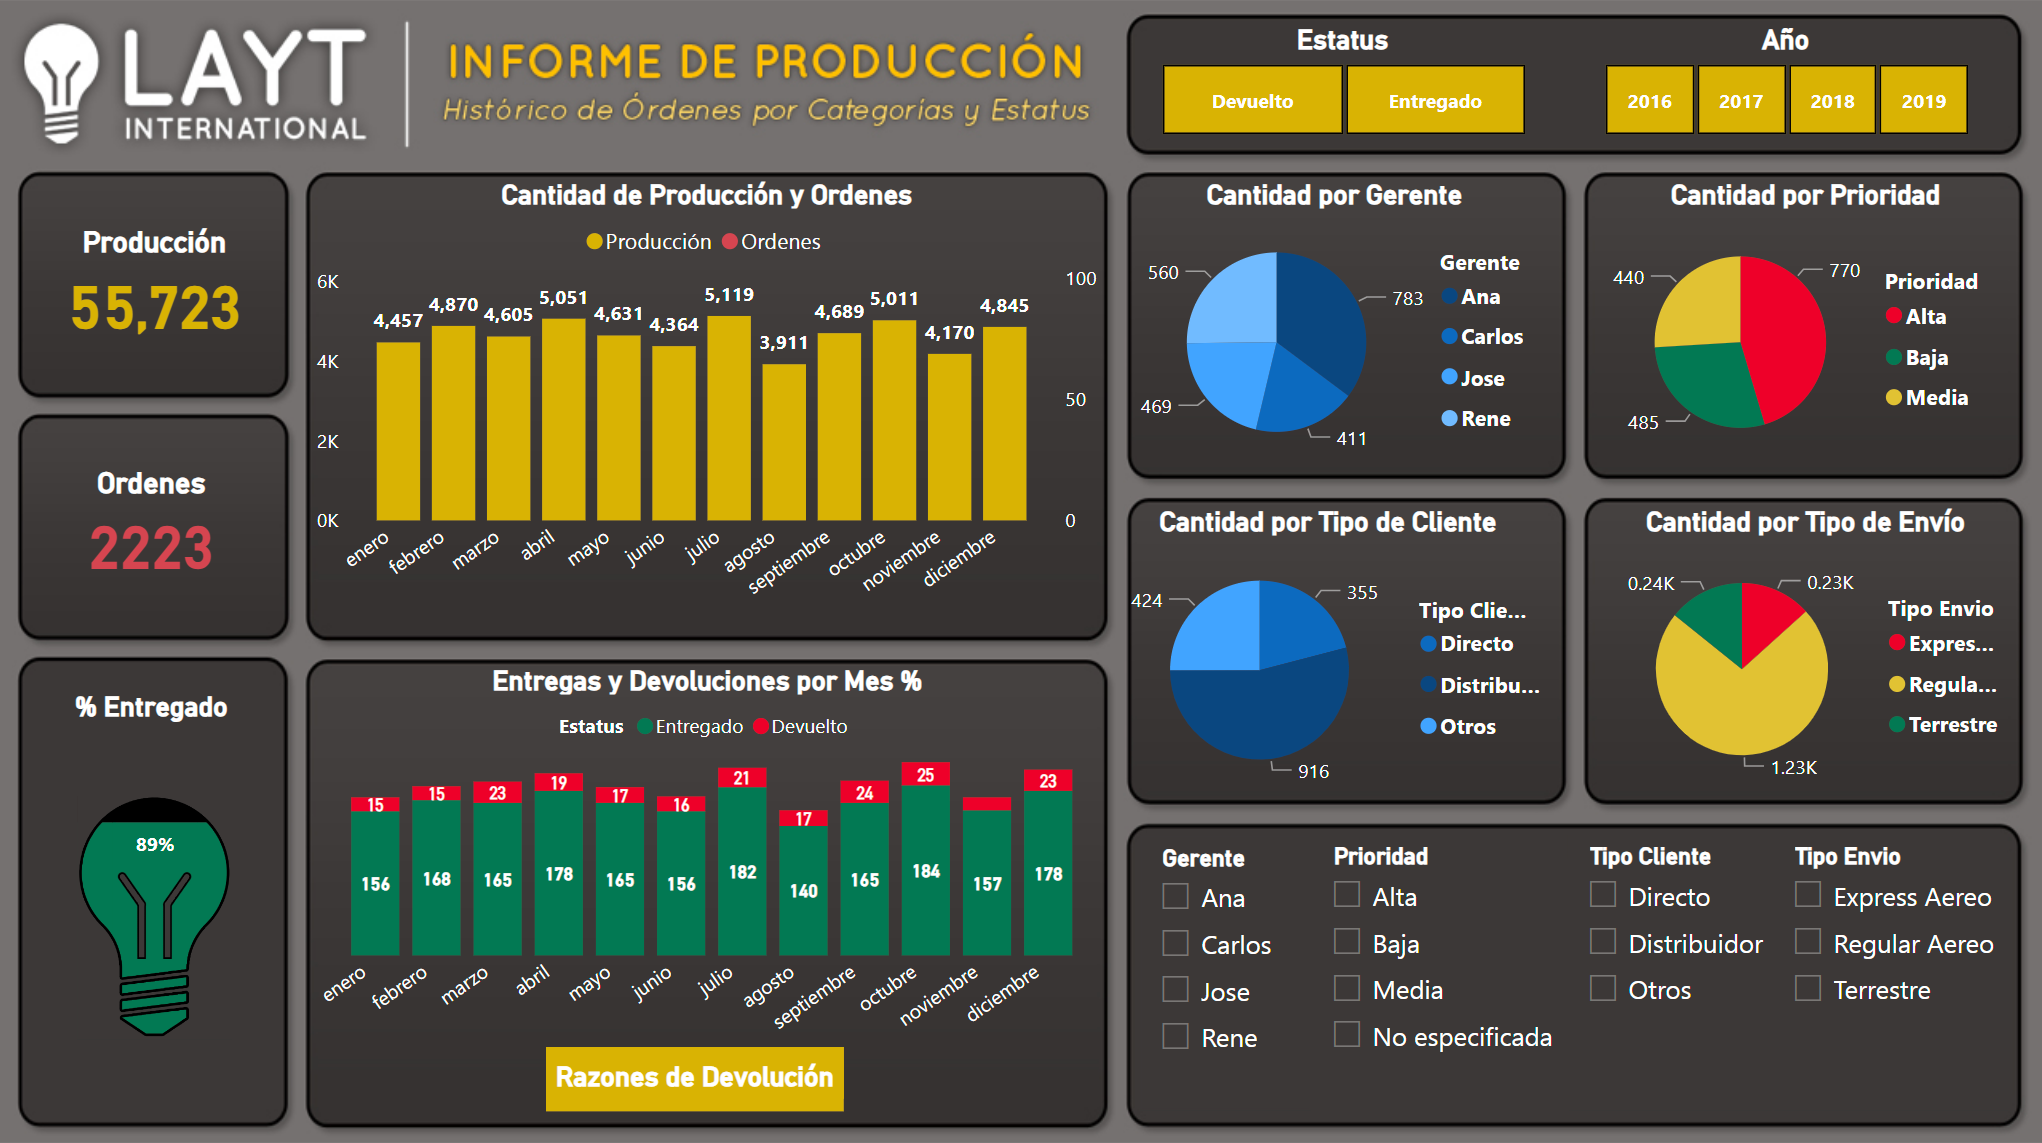

The page's visual inventory and layout, read from the dashboard file:
{"tool":"powerbi","page":{"name":"Pctg - Entregas","canvas":[1280,720],"ordinal":2},"visuals":[{"type":"image","title":"ImagenFondo","box":[0,0,1279.8,720],"z":0},{"type":"card","title":"Producción","fields":{"Values":["TablaTransacciones.Cantidad"]},"box":[22.9,144.7,157.1,75.5],"z":1000},{"type":"card","title":"Ordenes","fields":{"Values":["TablaTransacciones.Cantidad"]},"box":[22.9,294.4,153.4,74.2],"z":2000},{"type":"lineClusteredColumnComboChart","title":"Cantidad de Producción y Ordenes","fields":{"Category":["TablaTransacciones.Fecha.Variación.Jerarquía de fechas.Mes"],"Y2":["TablaTransacciones.Cantidad"],"Y":["TablaTransacciones.Cantidad"]},"box":[196.7,115.7,495.5,282.1],"z":3000},{"type":"slicer","title":"Año","fields":{"Values":["TablaTransacciones.Fecha.Variación.Jerarquía de fechas.Año"]},"box":[977.3,19.2,275.3,76.1],"z":4000},{"type":"columnChart","title":"Entregas y Devoluciones por Mes %","fields":{"Category":["TablaTransacciones.Fecha.Variación.Jerarquía de fechas.Mes"],"Y":["TablaEstatus.Estatus"],"Series":["EstatusOrden.Estatus"]},"box":[197.3,417.5,494.8,248],"z":5000},{"type":"hundredPercentStackedColumnChart","title":"Segmento1","fields":{"Y":["TablaTransacciones.Cantidad"],"Series":["EstatusOrden.Orden"]},"box":[16.7,485.6,99.6,170.1],"z":6000},{"type":"hundredPercentStackedColumnChart","title":"Segmento2","fields":{"Y":["TablaTransacciones.Cantidad"],"Series":["EstatusOrden.Orden"]},"box":[0,485.6,207.8,170.1],"z":7000},{"type":"hundredPercentStackedColumnChart","title":"Segmento3","fields":{"Y":["TablaTransacciones.Cantidad"],"Series":["EstatusOrden.Orden"]},"box":[96.5,485.6,84.7,170.1],"z":8000},{"type":"slicer","title":"Estatus","fields":{"Values":["TablaEstatus.Estatus"]},"box":[702.1,19.2,275.3,76.1],"z":9000},{"type":"image","title":"Bombillo","box":[48.2,438.6,105.8,272.8],"z":10000},{"type":"textbox","title":"% Entregado","box":[17.9,428.7,163.3,43.3],"z":11000},{"type":"pieChart","title":"Cantidad por Gerente","fields":{"Y":["TablaTransacciones.Gerente"],"Series":["TablaTransacciones.Gerente"]},"box":[692.2,115.7,285.2,184.9],"z":12000},{"type":"pieChart","title":"Cantidad por Prioridad","fields":{"Y":["TablaTransacciones.Gerente"],"Series":["TablaTransacciones.Prioridad"]},"box":[992.2,115.7,270.3,184.9],"z":13000},{"type":"pieChart","title":"Cantidad por Tipo de Cliente","fields":{"Y":["TablaTransacciones.Gerente"],"Series":["TablaTransacciones.Tipo Cliente"]},"box":[684.1,318.6,293.2,186.2],"z":14000},{"type":"pieChart","title":"Cantidad por Tipo de Envío","fields":{"Y":["TablaTransacciones.Gerente"],"Series":["TablaTransacciones.Tipo Envio"]},"box":[992.2,318.6,270.3,184.9],"z":15000},{"type":"slicer","fields":{"Values":["TablaTransacciones.Gerente"]},"box":[713.8,523.9,105.8,170.7],"z":16000},{"type":"slicer","fields":{"Values":["TablaTransacciones.Prioridad"]},"box":[821,523.9,157.7,170.7],"z":17000},{"type":"slicer","fields":{"Values":["TablaTransacciones.Tipo Cliente"]},"box":[980.2,523.9,126.2,170.7],"z":18000},{"type":"slicer","fields":{"Values":["TablaTransacciones.Tipo Envio"]},"box":[1107.8,523.9,144.7,170.7],"z":19000},{"type":"actionButton","title":"Razones de Devolución","box":[344.5,655.7,184.9,40.2],"z":20000}]}

Visuals, with their boxes in screenshot pixels (x1, y1, x2, y2), scaled from the page's 1280x720 canvas onto the 2042x1143 screenshot:
"ImagenFondo" image: box=[0, 0, 2041, 1142]
"Producción" card: box=[37, 230, 287, 350]
"Ordenes" card: box=[37, 467, 281, 585]
"Cantidad de Producción y Ordenes" lineClusteredColumnComboChart: box=[314, 184, 1104, 632]
"Año" slicer: box=[1559, 30, 1998, 151]
"Entregas y Devoluciones por Mes %" columnChart: box=[315, 663, 1104, 1056]
"Segmento1" hundredPercentStackedColumnChart: box=[27, 771, 186, 1041]
"Segmento2" hundredPercentStackedColumnChart: box=[0, 771, 332, 1041]
"Segmento3" hundredPercentStackedColumnChart: box=[154, 771, 289, 1041]
"Estatus" slicer: box=[1120, 30, 1559, 151]
"Bombillo" image: box=[77, 696, 246, 1129]
"% Entregado" textbox: box=[29, 681, 289, 749]
"Cantidad por Gerente" pieChart: box=[1104, 184, 1559, 477]
"Cantidad por Prioridad" pieChart: box=[1583, 184, 2014, 477]
"Cantidad por Tipo de Cliente" pieChart: box=[1091, 506, 1559, 801]
"Cantidad por Tipo de Envío" pieChart: box=[1583, 506, 2014, 799]
slicer - TablaTransacciones.Gerente: box=[1139, 832, 1308, 1103]
slicer - TablaTransacciones.Prioridad: box=[1310, 832, 1561, 1103]
slicer - TablaTransacciones.Tipo Cliente: box=[1564, 832, 1765, 1103]
slicer - TablaTransacciones.Tipo Envio: box=[1767, 832, 1998, 1103]
"Razones de Devolución" actionButton: box=[550, 1041, 845, 1105]
